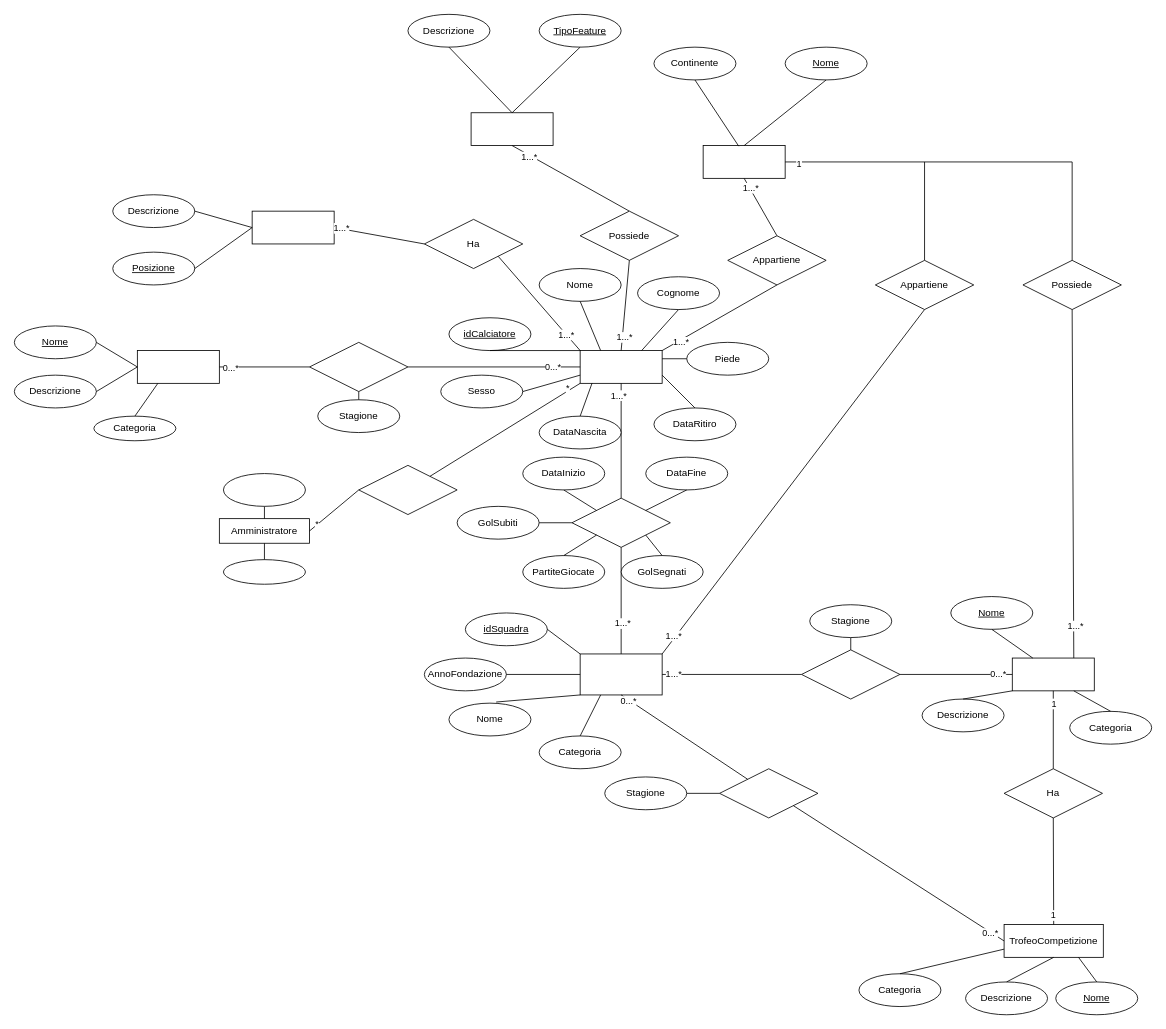
The diagram is 1166 pixels wide and 1029 high, and some of its shapes have lost their labels. The shapes that lost their labels are listed below. From the top down, each one's centre as x and y in pixels, then its label:
At point 511,129: "Feature".
At point 743,161: "Nazionalità".
At point 292,227: "Ruolo".
At point 178,366: "TrofeoCalciatore".
At point 358,367: "VinceCalciatore".
At point 620,366: "Calciatore".
At point 264,489: "Username".
At point 407,490: "Gestisce".
At point 620,522: "Militanza".
At point 264,571: "Password".
At point 620,674: "Squadra".
At point 850,674: "Partecipa".
At point 1052,674: "Competiione".
At point 768,793: "VinceSquadra".
